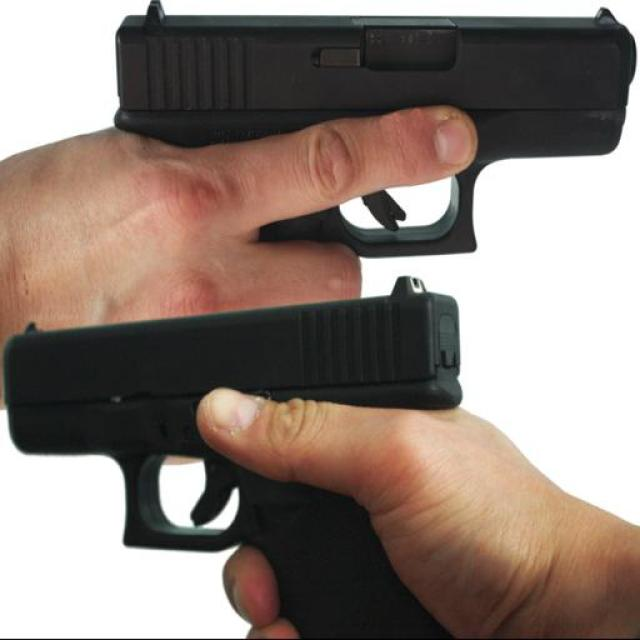pistol: (3, 275, 461, 639), (115, 1, 635, 256)
